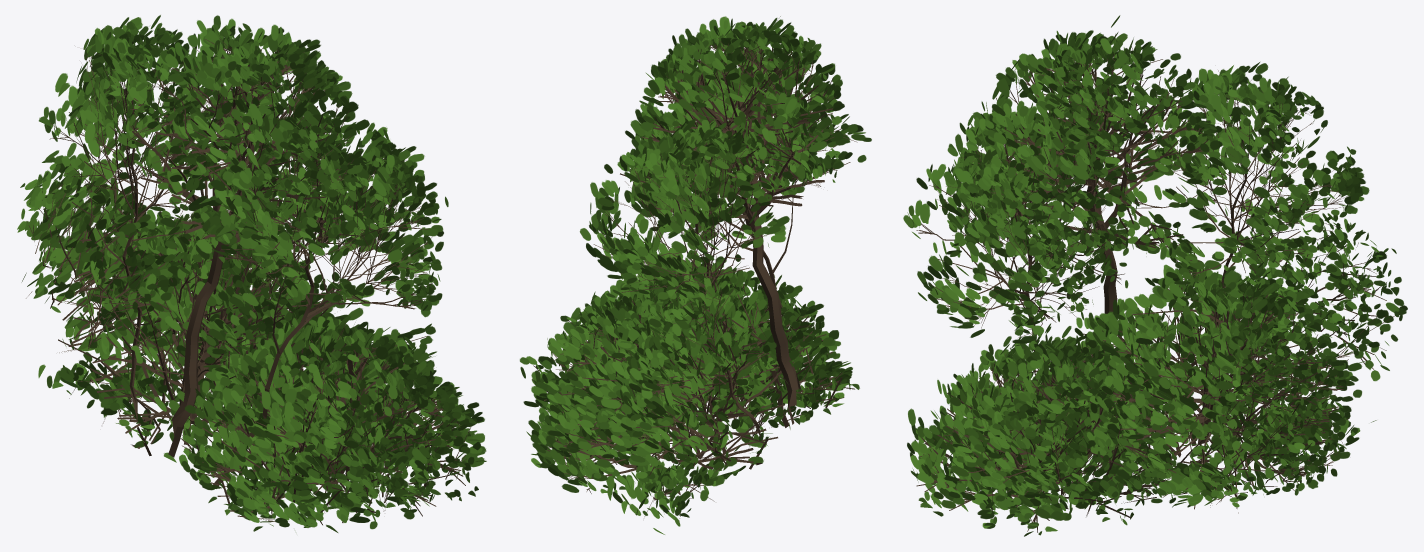
The picture shows the model from 3 angles, left to right: view 1: azimuth 30°, elevation 25°; view 2: azimuth 150°, elevation 25°; view 3: azimuth 270°, elevation 25°; orthographic projection. The views are drawn at different scales.
Visible parts, largest first — view 1: oak 01.001_trunk_Mat.001_0.340; view 2: oak 01.001_trunk_Mat.001_0.340; view 3: oak 01.001_trunk_Mat.001_0.340.
Boxes of the visible parts, box(x1,y1,x2,y2) form: oak 01.001_trunk_Mat.001_0.340: box(17, 15, 486, 532); oak 01.001_trunk_Mat.001_0.340: box(519, 16, 871, 534); oak 01.001_trunk_Mat.001_0.340: box(903, 15, 1407, 536).
Bounding box in the file's own units: 2.28 × 3.49 × 3.63.
Materials: 2 (1 with a texture image).
